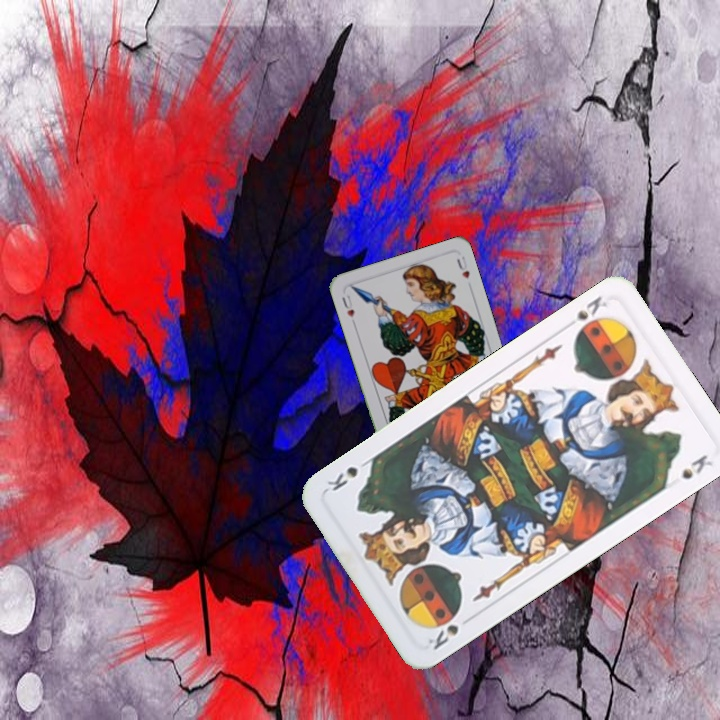HU: (338, 291, 357, 321)
SK: (561, 291, 610, 339), (423, 612, 476, 653)
